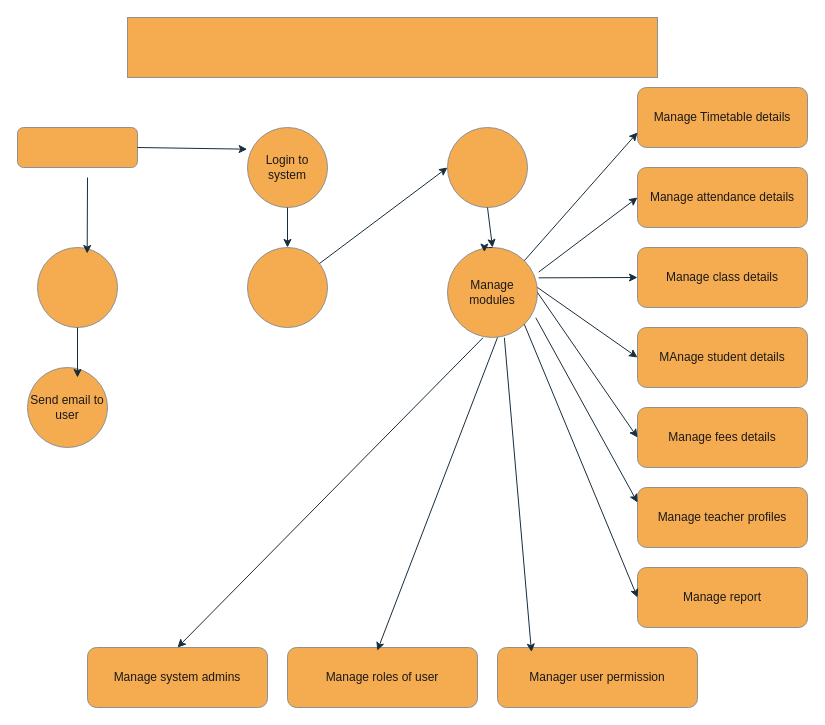
Some shapes in this 825 by 725 pixel diagram are drawn without their labels. Each missing label, with the centre of its shape:
"Admin" belongs at point 77,147.
"check credentiLS" belongs at point 287,287.
"check roles of access" belongs at point 487,167.
"Forgot network" belongs at point 77,287.
"Student information System" belongs at point 392,47.
